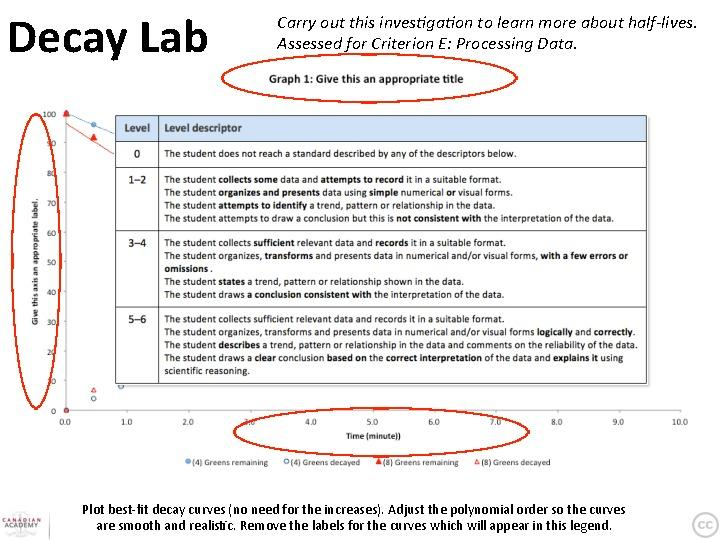title: (5, 3, 219, 71)
